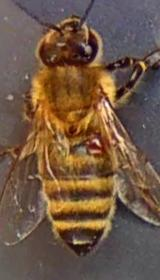varroa_mite: (74, 130, 113, 161)
